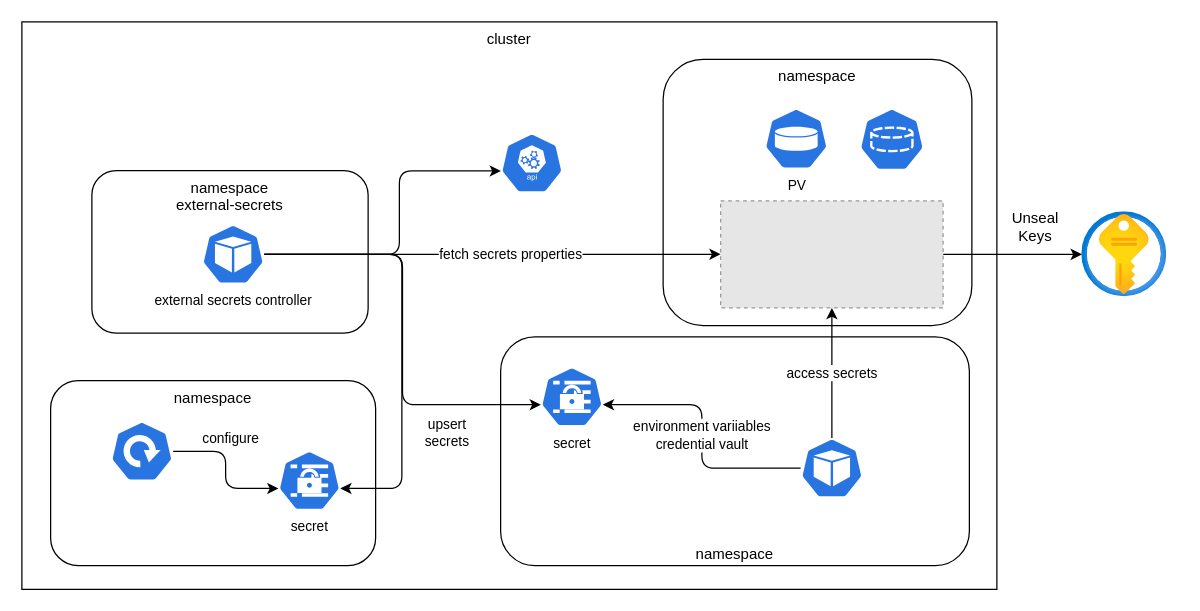
The diagram is 1200 pixels wide and 611 high, and some of its shapes have lost their labels. Grey dashed boxes stand in for pictures. Each missing label, with the centre of its shape:
api server: the point at 531,162
azure key vaults: the point at 1123,253
business application: the point at 831,467
infrastructure / platform deployment: the point at 141,450
PVC: the point at 891,139
